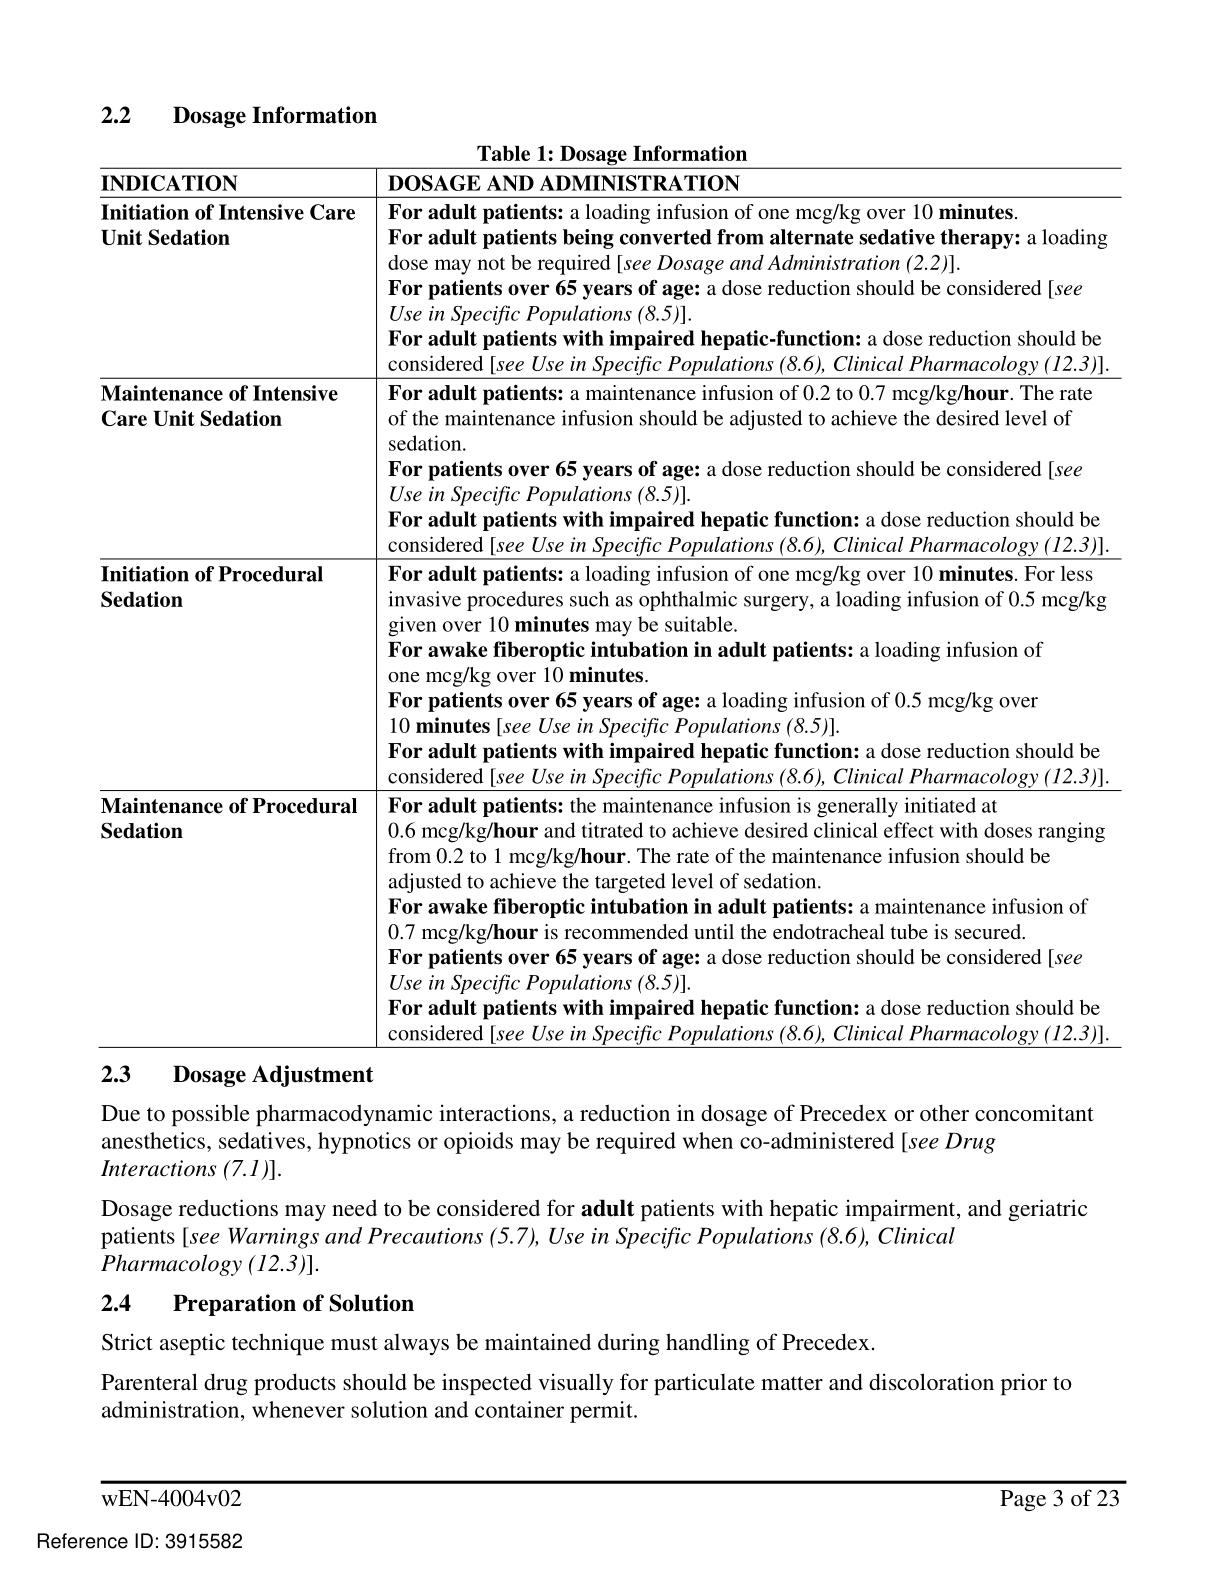partial_lined: (96, 165, 1125, 1049)
